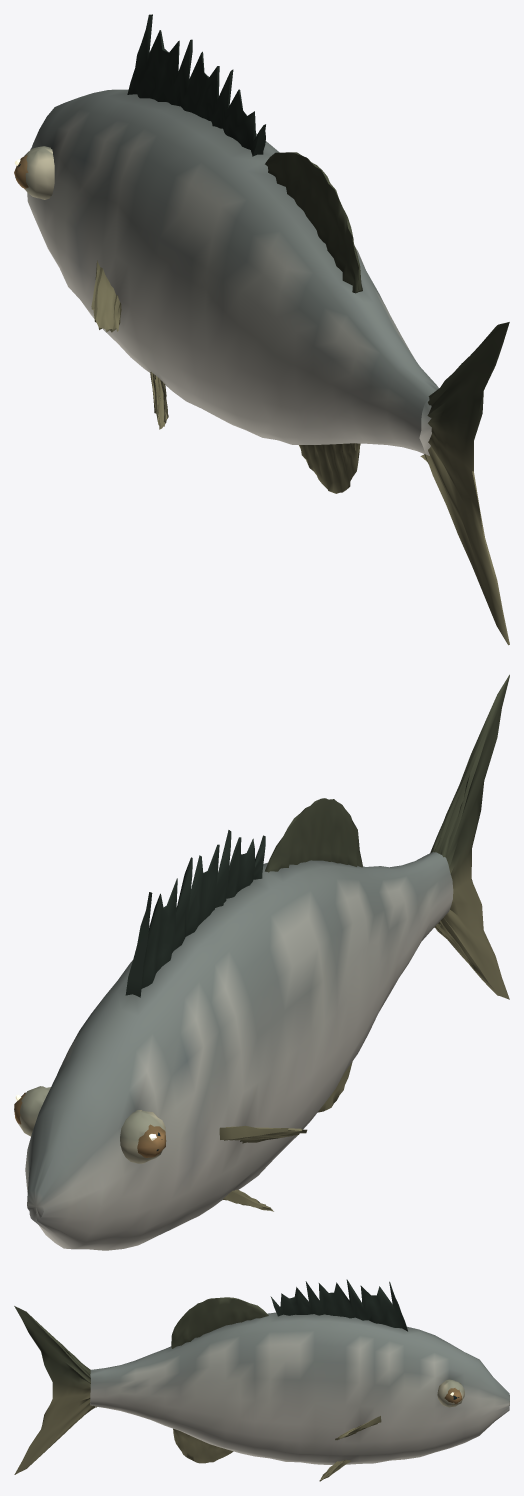
File: bass.glb
3 renders of one model, top to bottom at view 1: azimuth 30°, elevation 25°; view 2: azimuth 150°, elevation 25°; view 3: azimuth 270°, elevation 25°, orthographic. The views are drawn at different scales.
Parts seen in each view (by area): view 1: bass; view 2: bass; view 3: bass.
Part boxes in pixels (box(x1,y1,x2,y2)): bass: box(14, 14, 509, 645); bass: box(14, 674, 509, 1250); bass: box(14, 1279, 509, 1481).
Bounding box in the file's own units: 0.1992 × 0.3404 × 0.7814.
